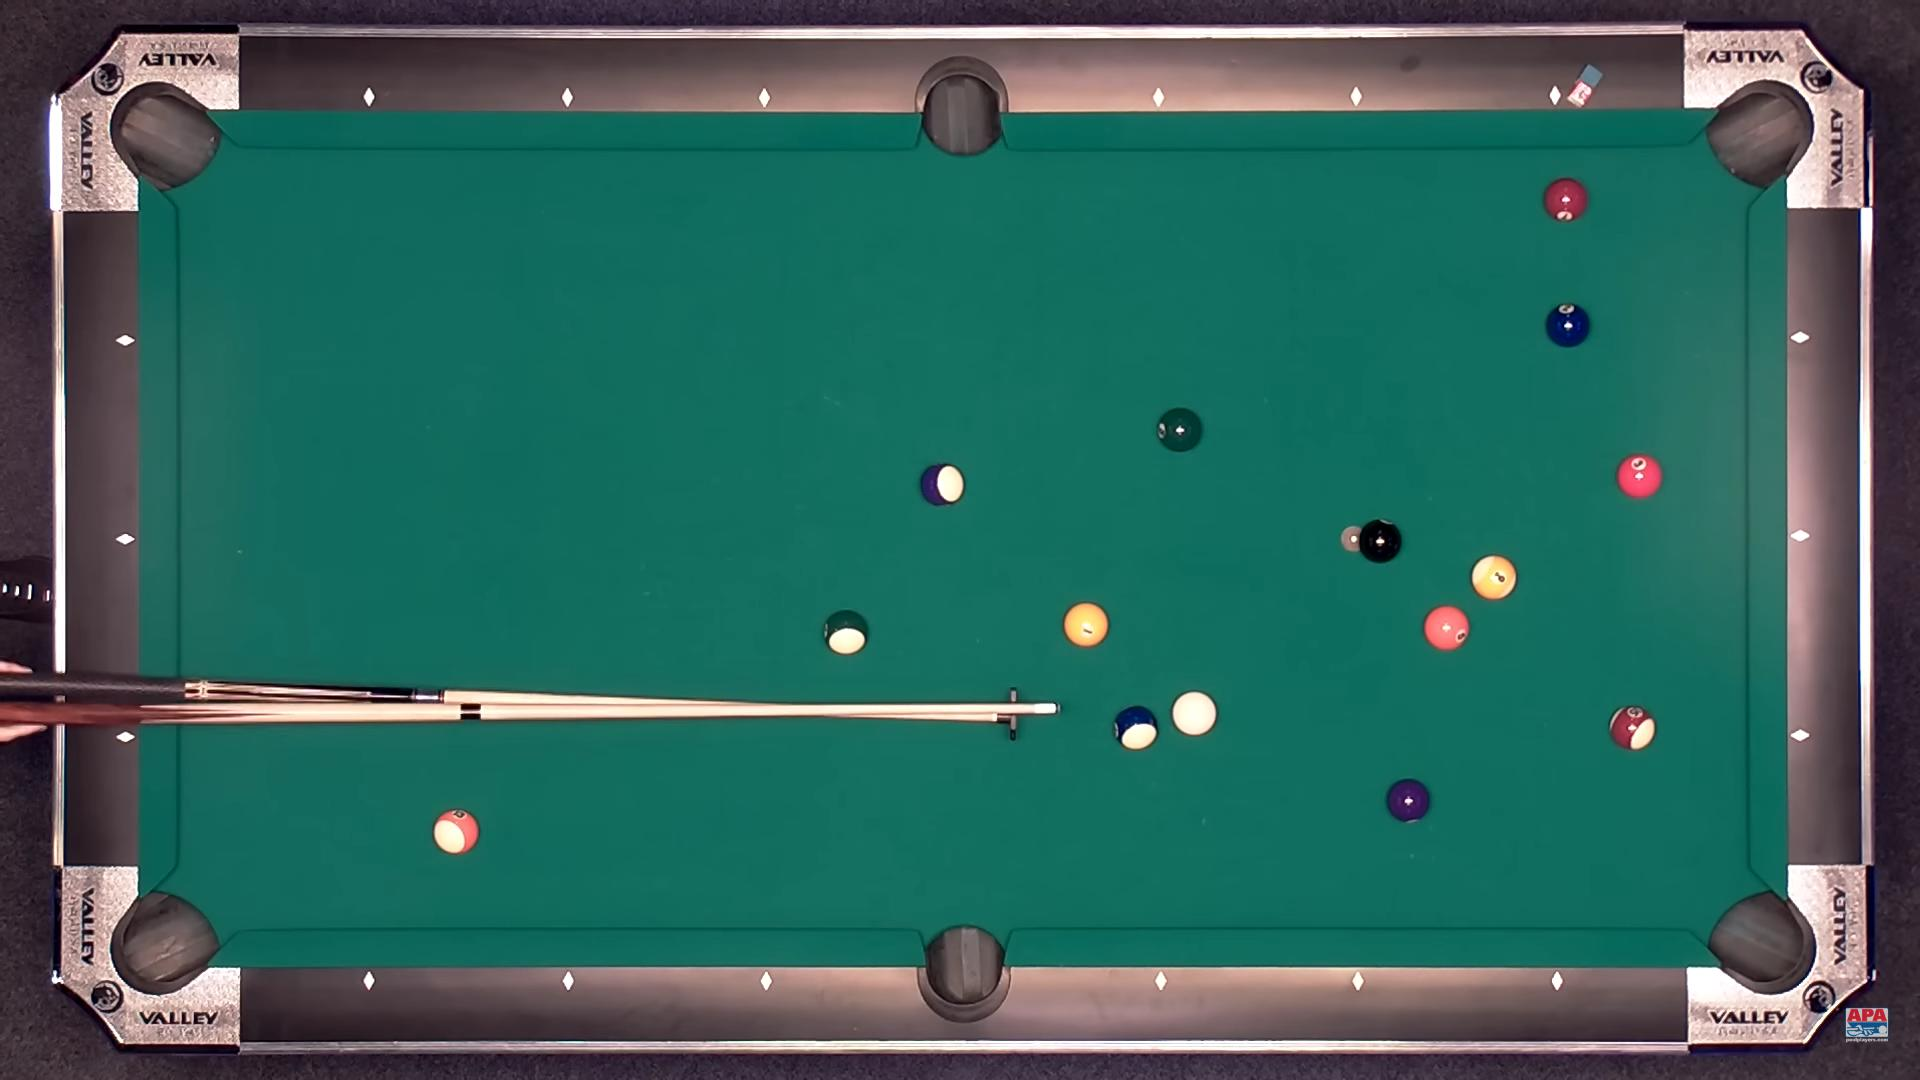Black: (1360, 520, 1402, 563)
Cue: (1172, 691, 1217, 736)
Dot: (756, 91, 770, 105), (1548, 88, 1563, 103), (1792, 331, 1807, 345), (1792, 530, 1807, 545), (1549, 975, 1564, 989), (1350, 975, 1365, 989), (1153, 975, 1167, 989), (117, 332, 132, 347), (360, 91, 375, 104), (1151, 91, 1166, 104), (1350, 88, 1364, 103), (1793, 729, 1808, 742), (760, 975, 773, 989), (560, 975, 574, 989), (363, 975, 376, 989), (117, 731, 131, 745), (120, 531, 133, 546), (559, 91, 572, 104)
Solid: (1156, 407, 1203, 452), (1063, 603, 1109, 647), (1543, 178, 1588, 223), (1618, 454, 1663, 497), (1424, 607, 1469, 650), (1547, 303, 1589, 348), (1387, 779, 1431, 822)
Striped: (433, 808, 480, 855), (1472, 554, 1518, 600), (1113, 705, 1159, 752), (1609, 704, 1656, 749), (823, 609, 869, 654), (920, 464, 965, 506)
